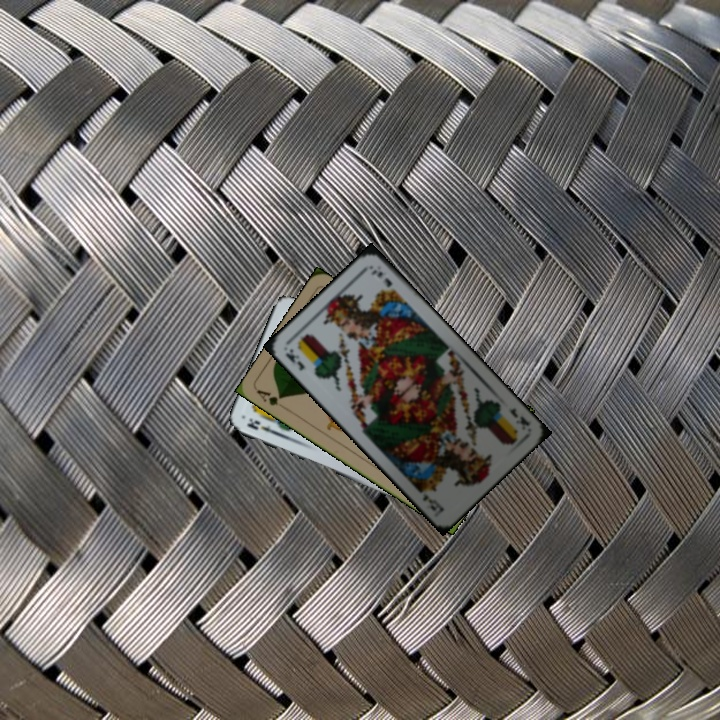EK: (243, 414, 281, 438), (281, 344, 308, 374), (504, 404, 533, 429)
GA: (253, 386, 286, 408)
